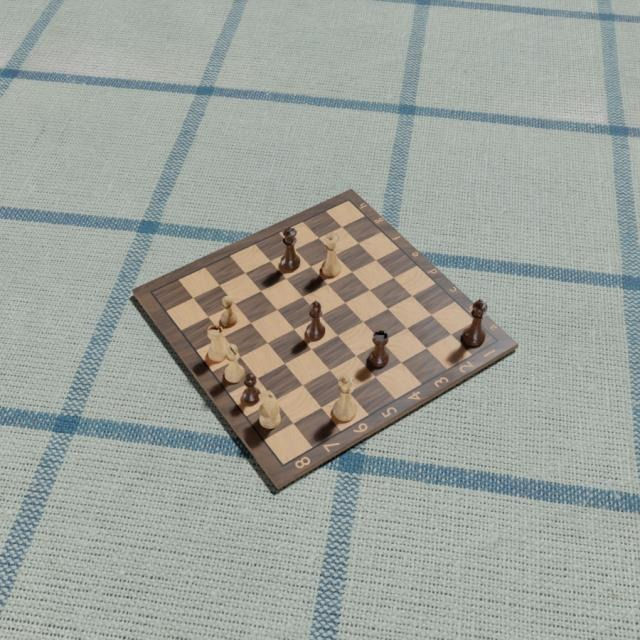black-king: (460, 297, 488, 347)
black-pawn: (306, 299, 326, 341), (240, 372, 260, 407)
black-queen: (280, 225, 301, 271)
black-rook: (368, 330, 390, 370), (205, 325, 226, 364)
white-bishop: (223, 342, 245, 385)
white-king: (332, 374, 360, 422)
white-knight: (258, 390, 282, 430)
white-pawn: (221, 294, 239, 329)
white-queen: (321, 231, 343, 277)
